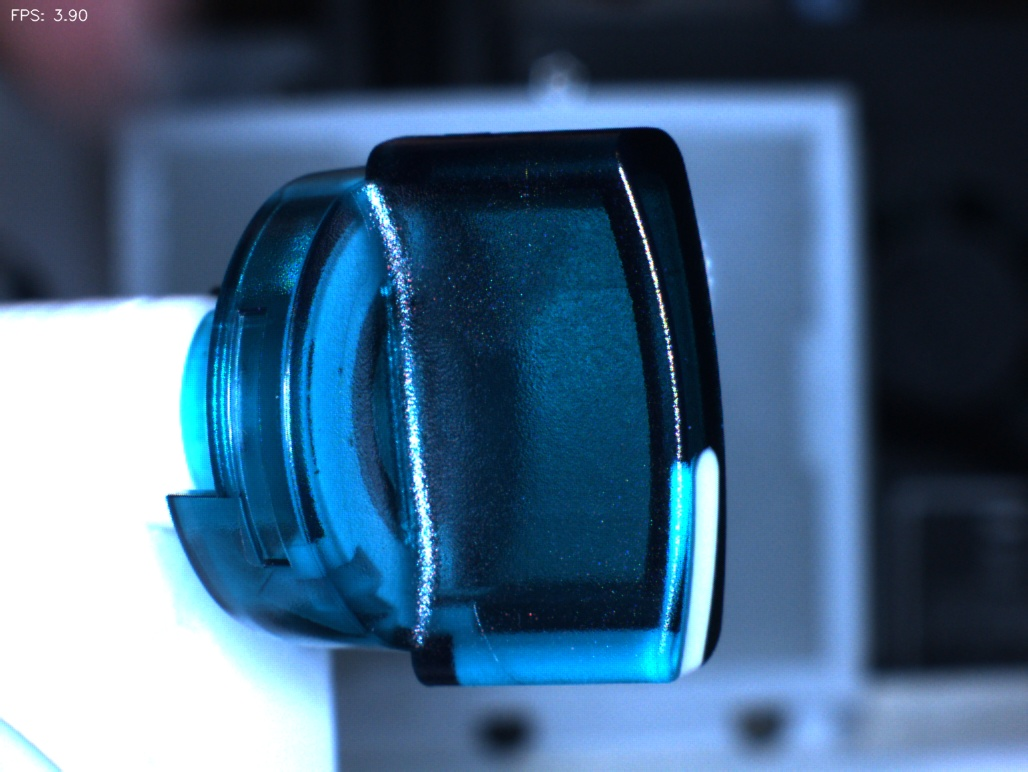PointNoir: (313, 334, 369, 402)
